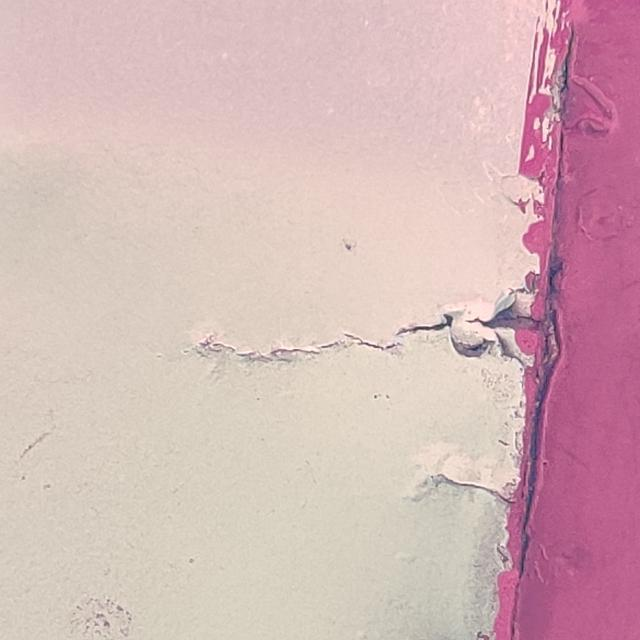Crack: (195, 272, 559, 384), (416, 444, 520, 504)
